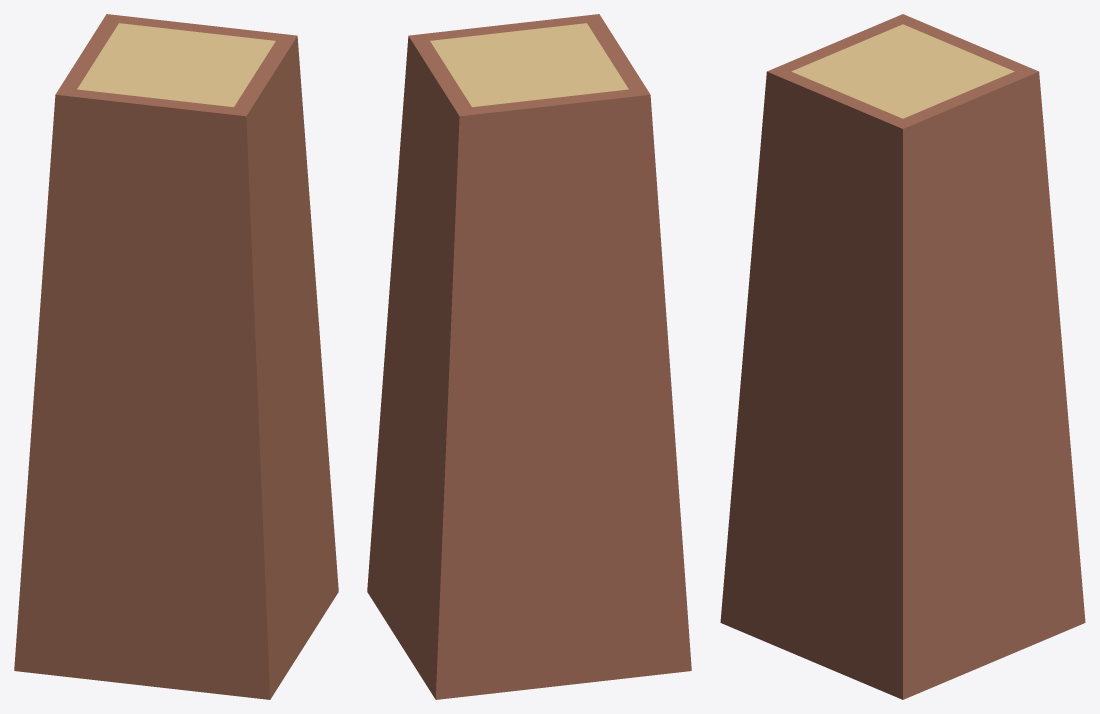
The model's file is StumpObj.fbx.
3 renders of one model, left to right at view 1: azimuth 30°, elevation 25°; view 2: azimuth 150°, elevation 25°; view 3: azimuth 270°, elevation 25°, orthographic. The views are drawn at different scales.
Parts seen in each view (by area): view 1: Stump; view 2: Stump; view 3: Stump.
Part boxes in pixels (box(x1,y1,x2,y2)): Stump: box(14, 14, 338, 699); Stump: box(367, 14, 691, 699); Stump: box(720, 14, 1085, 699).
Size of the model in its own units: 179 by 299 by 179.
